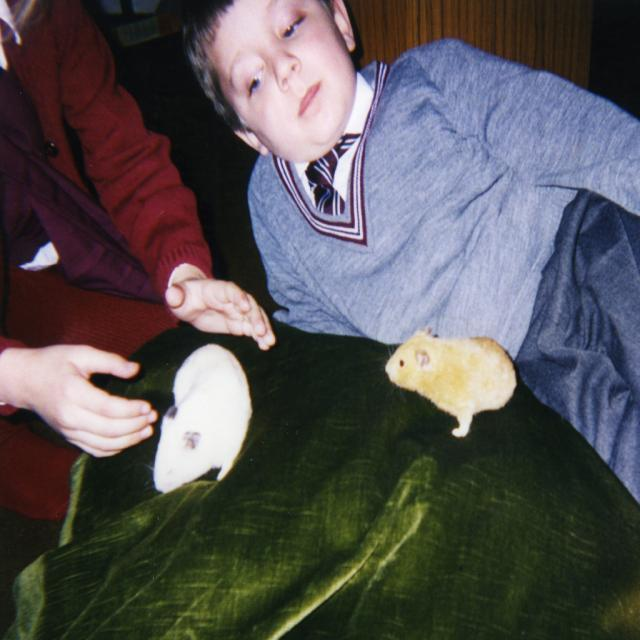rat: (153, 342, 255, 497), (386, 323, 522, 437)
